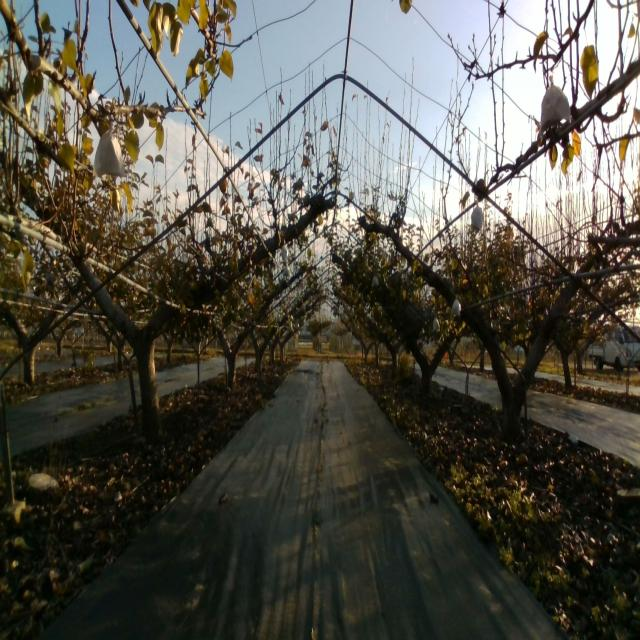pearbags: (538, 75, 572, 133), (92, 125, 125, 179), (469, 200, 484, 228), (450, 293, 462, 316)
